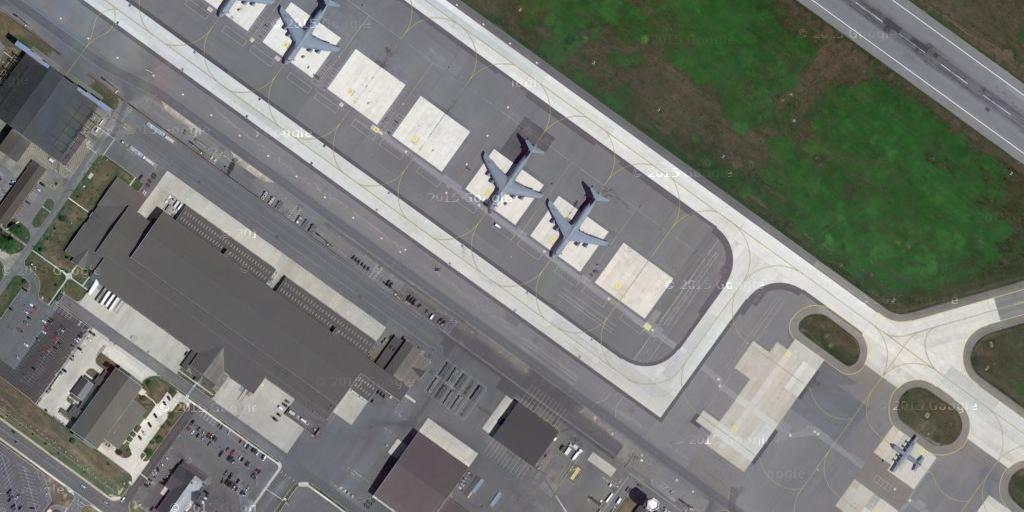C-130: (885, 435, 928, 475)
KC-10: (274, 1, 346, 68)
KC-135: (475, 131, 549, 214), (540, 182, 614, 261)
